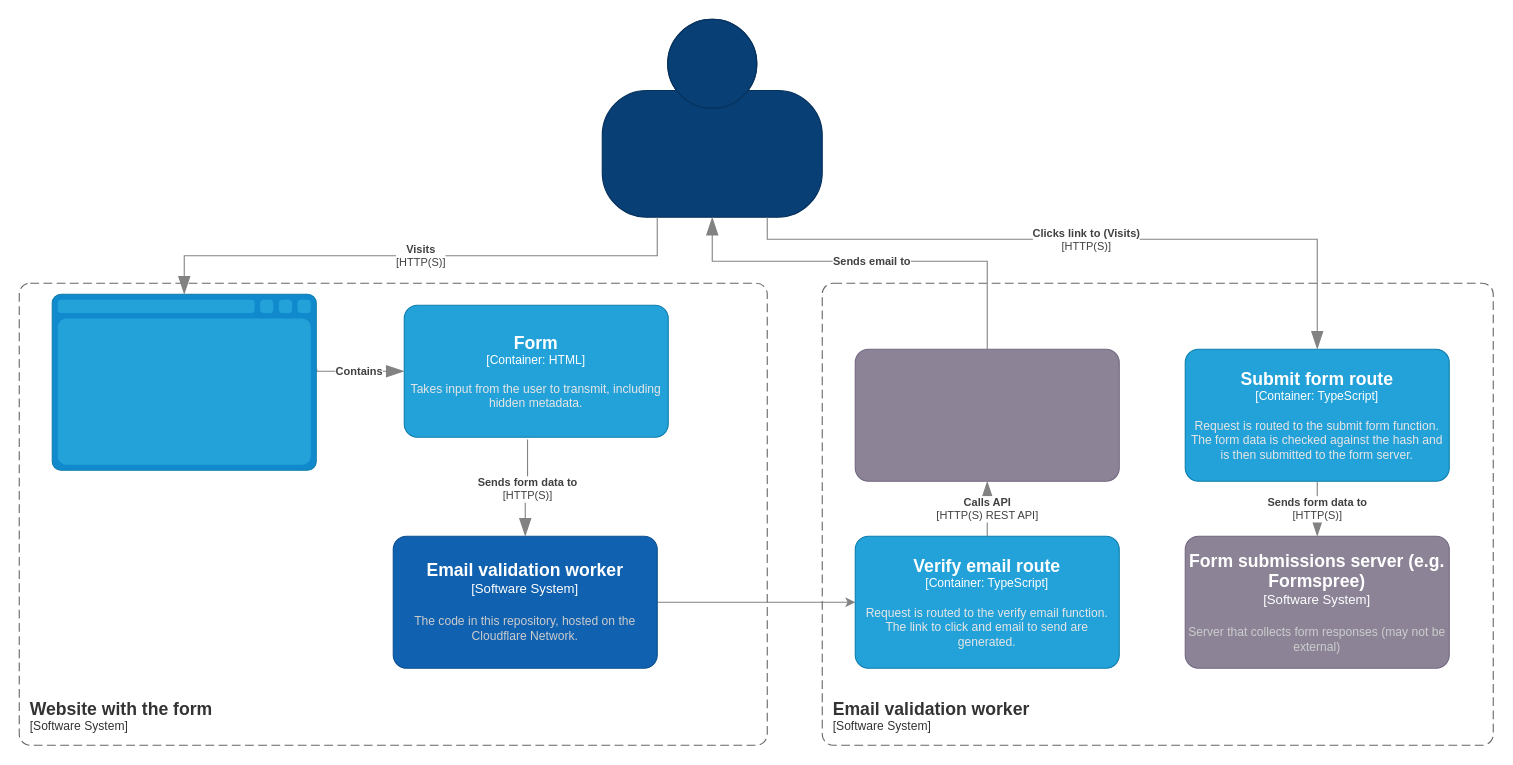
Some shapes in this 1513 by 765 pixel diagram are drawn without their labels. Each missing label, with the centre of its shape:
Mailgun [Software System] Email delivery service (API): pixel 986 414
User [Person] Website user submitting a form.: pixel 711 117
Web frontend [Container: HTML, CSS, JS, etc.] The UI of the website.: pixel 183 381
